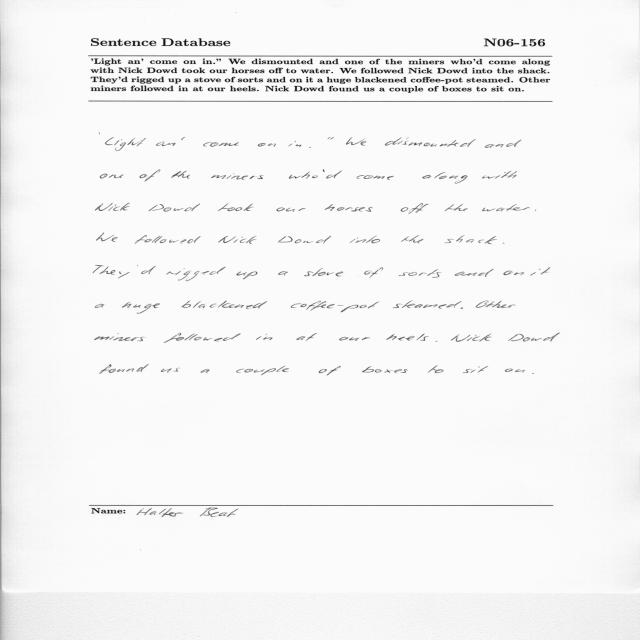word: (291, 301, 379, 312), (385, 137, 476, 147), (166, 267, 226, 281), (164, 333, 241, 343), (181, 301, 267, 309), (135, 235, 201, 244), (105, 137, 146, 151), (422, 172, 468, 184), (393, 301, 462, 309), (100, 364, 149, 374), (93, 266, 130, 279), (236, 366, 289, 375), (445, 235, 497, 244), (122, 302, 160, 314), (278, 236, 331, 244), (508, 333, 560, 341), (149, 204, 200, 212), (95, 333, 145, 341), (325, 204, 373, 212), (399, 269, 441, 278), (211, 173, 264, 180), (482, 204, 530, 211), (451, 334, 492, 342), (362, 366, 408, 373), (218, 236, 257, 244), (304, 268, 343, 276), (455, 269, 494, 277), (386, 334, 429, 341), (401, 203, 428, 214), (485, 140, 521, 148), (218, 204, 254, 212), (482, 171, 517, 179), (95, 203, 130, 211), (476, 301, 516, 308), (156, 138, 185, 147), (140, 170, 161, 182), (350, 236, 380, 244), (364, 267, 383, 278), (289, 172, 318, 179), (319, 366, 341, 375), (97, 233, 118, 242), (357, 175, 394, 180), (203, 142, 239, 147), (531, 267, 551, 276), (402, 235, 424, 243), (463, 366, 488, 373), (323, 170, 342, 179), (137, 266, 156, 275), (237, 272, 258, 280), (296, 333, 317, 341), (445, 205, 468, 212), (346, 138, 366, 146), (171, 171, 190, 179), (428, 365, 444, 373), (339, 337, 370, 341), (276, 208, 306, 212), (101, 174, 124, 179), (256, 334, 273, 340), (504, 271, 524, 276), (161, 368, 180, 373), (505, 369, 525, 373), (289, 141, 302, 147), (258, 143, 276, 147), (278, 271, 288, 276), (200, 369, 210, 373), (96, 304, 105, 308), (328, 137, 334, 140), (460, 307, 463, 309), (503, 242, 505, 244), (309, 147, 311, 148), (436, 341, 438, 342), (532, 373, 534, 374), (535, 210, 536, 211)
